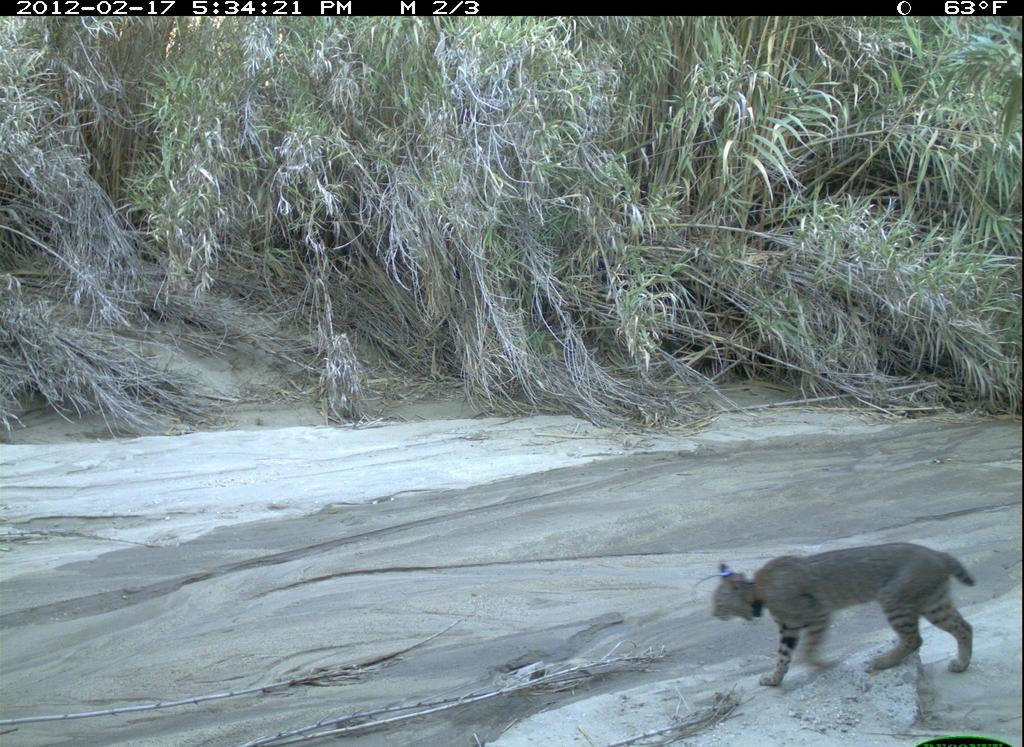bobcat: (712, 547, 989, 680)
